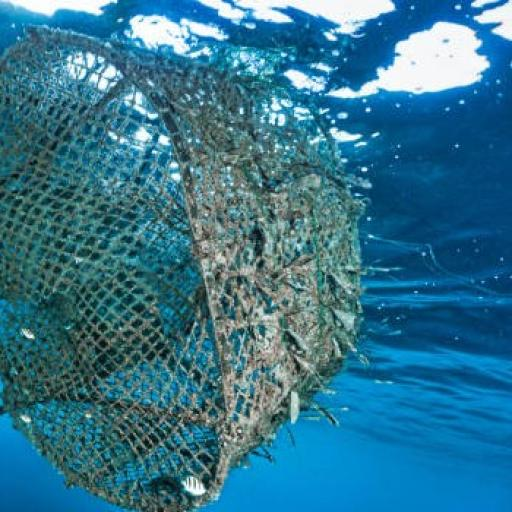net: (1, 25, 367, 512)
